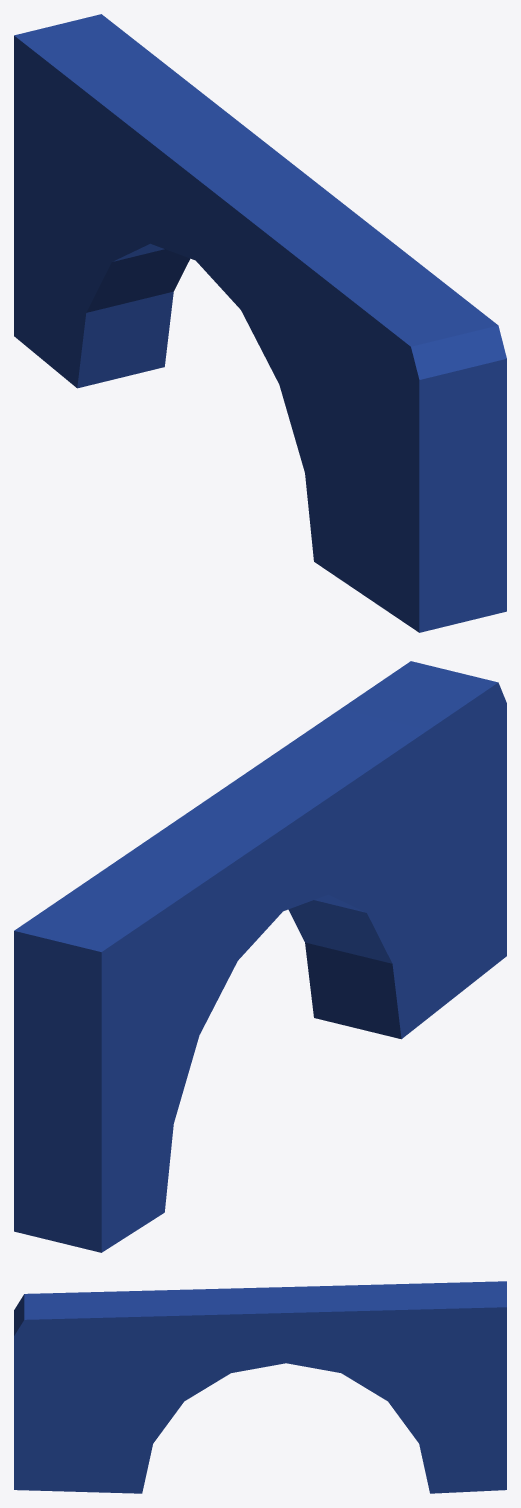
File: strada_evo_fender_left.glb
3 views of the same model, one above another, from view 1: azimuth 30°, elevation 25°; view 2: azimuth 150°, elevation 25°; view 3: azimuth 270°, elevation 25° (orthographic). The views are drawn at different scales.
Parts seen in each view (by area): view 1: strada_evo_fender_left; view 2: strada_evo_fender_left; view 3: strada_evo_fender_left.
Boxes of the visible parts, x1,y1,x2,y2 form: strada_evo_fender_left: (14, 14, 506, 632); strada_evo_fender_left: (14, 661, 506, 1252); strada_evo_fender_left: (14, 1281, 506, 1493).
Bounding box in the file's own units: 0.1707 × 0.5715 × 1.37.
